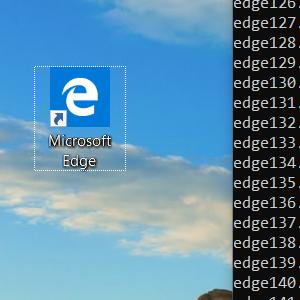edge: (49, 67, 110, 127)
